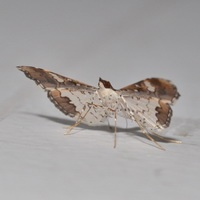insect: (17, 66, 180, 148)
